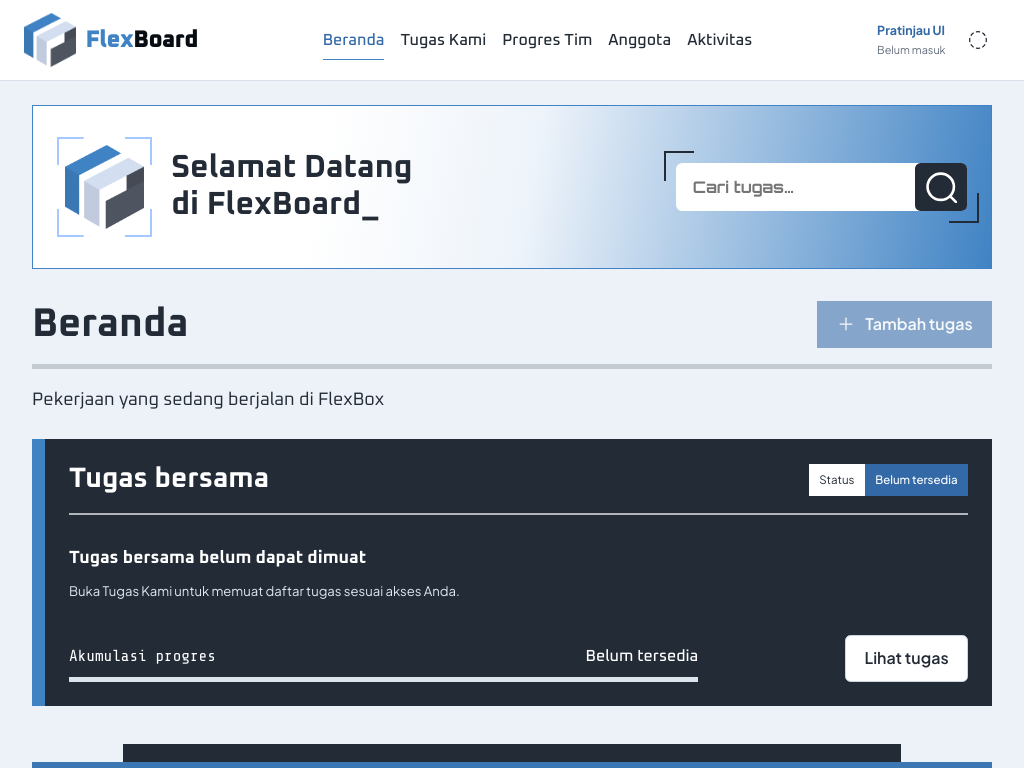
it: Routing aplikasi › pencarian banner menavigasi ke daftar tugas dan memuat API tugas
Type "kata pencarian" into the search field named "Cari tugas berdasarkan judul atau deskripsi" at [821, 187], box [676,163,967,211]
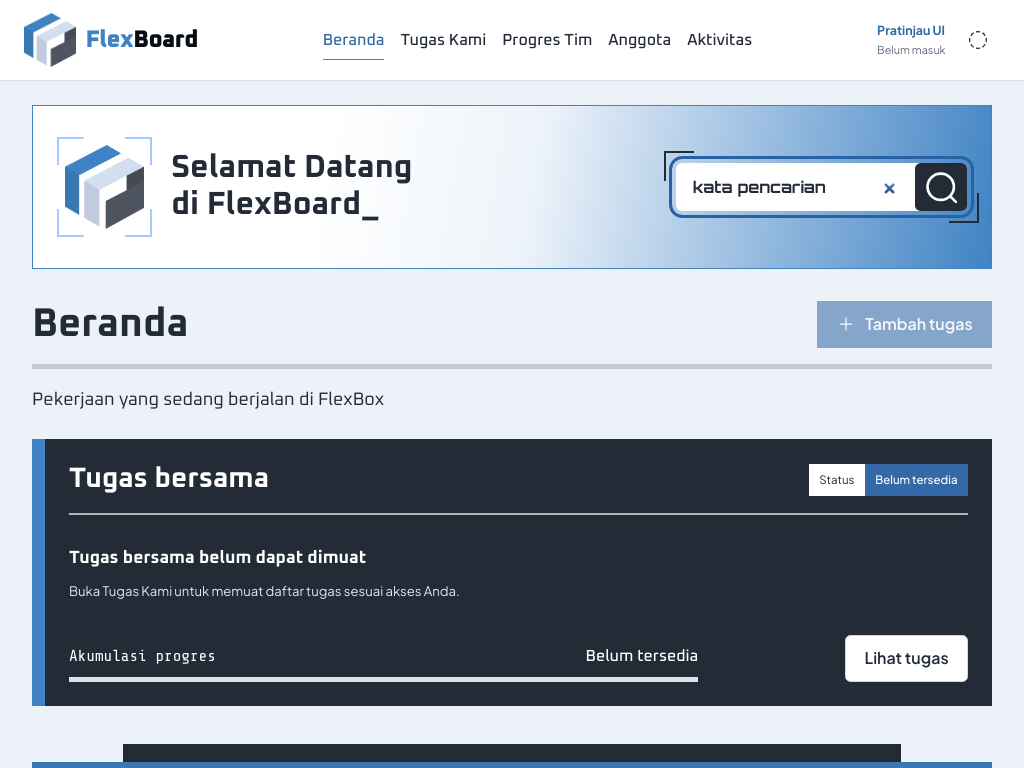
Click the button named "Cari tugas" at [941, 187], box [915,163,967,211]
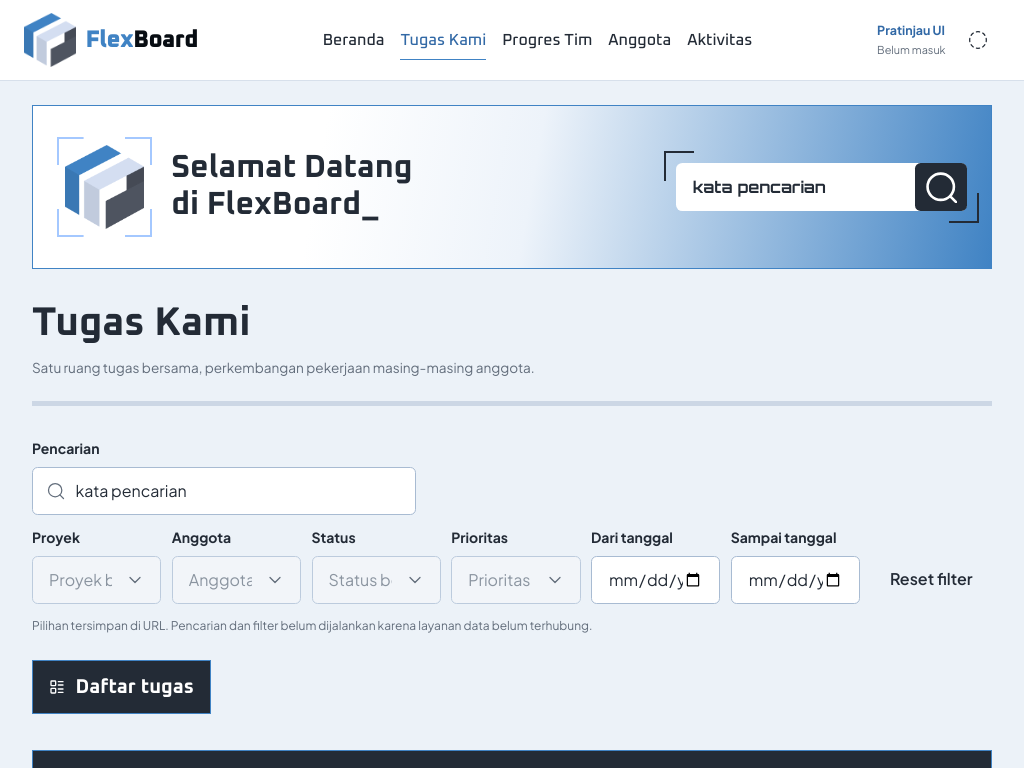
Now the heading "Tugas Kami" is shown, box [32,303,251,343]
